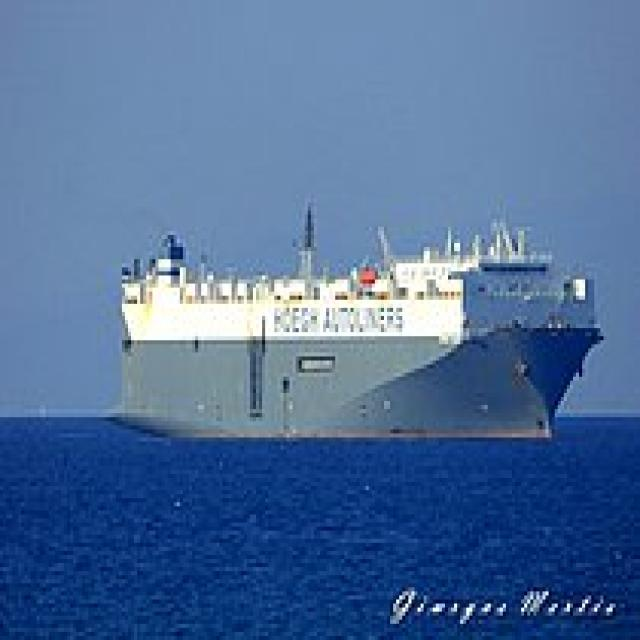Carrier: (100, 210, 606, 442)
